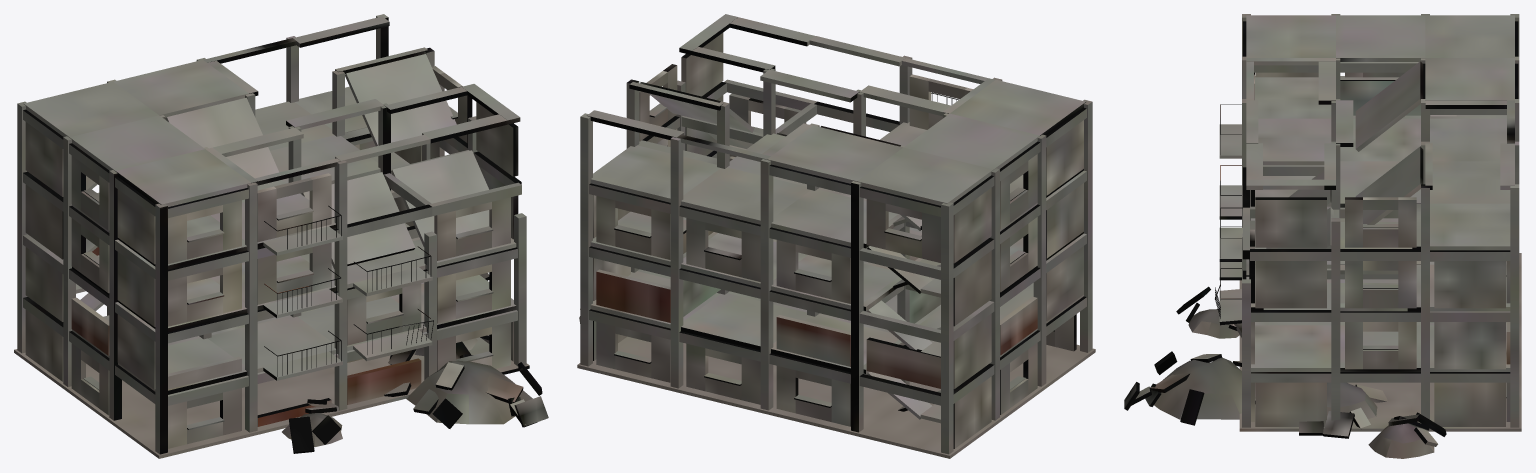
The model's file is ruined-apartment-shell.glb.
3 views of the same model, side by side, from view 1: azimuth 30°, elevation 25°; view 2: azimuth 150°, elevation 25°; view 3: azimuth 270°, elevation 25° (orthographic). The views are drawn at different scales.
Parts seen in each view (by area): view 1: body; view 2: body; view 3: body.
Part boxes in pixels (x1,y1,x2,y2): body: [14, 14, 548, 458]; body: [577, 14, 1095, 458]; body: [1124, 14, 1521, 458].
Bounding box in the file's own units: 21.39 × 12.15 × 17.76.
1 material, 1 textured.
